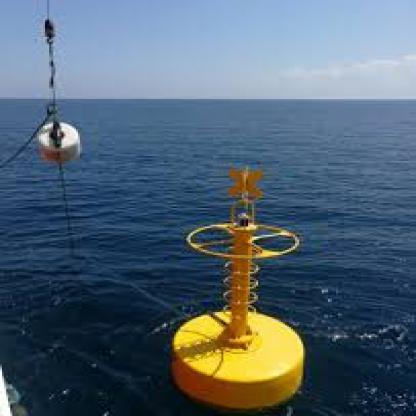buoy: (156, 164, 314, 413)
